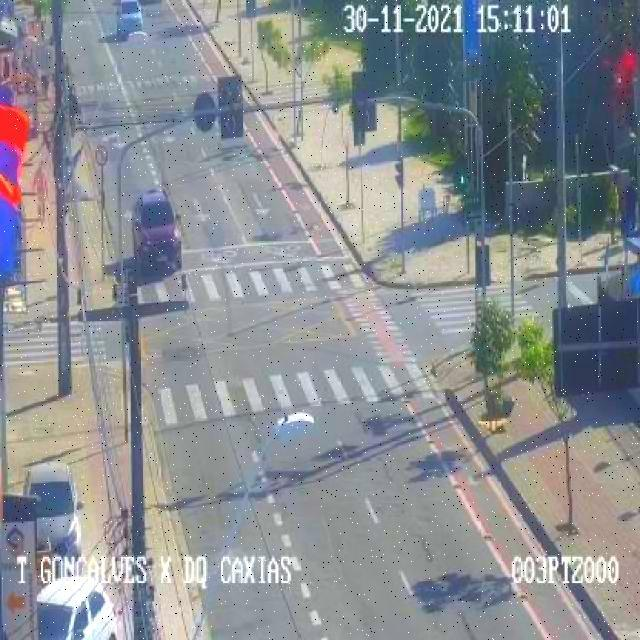Car: (20, 461, 83, 558), (38, 576, 118, 638), (131, 188, 182, 275), (117, 0, 143, 38)
